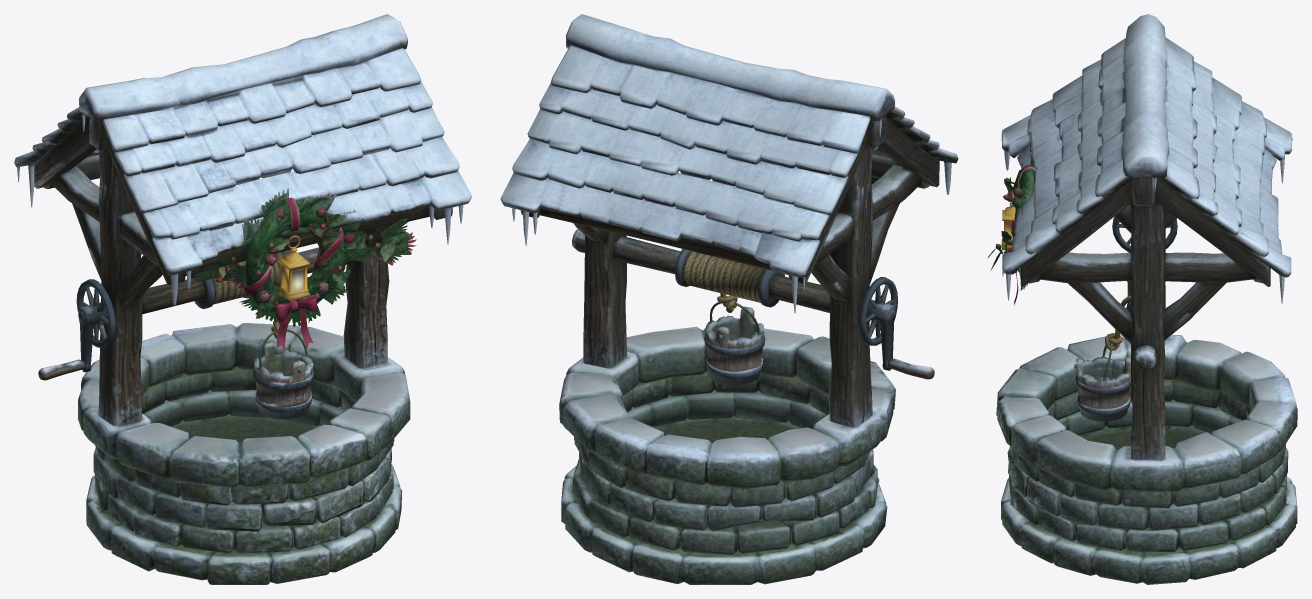
File: prop_mist_well.glb
The picture shows the model from 3 angles, left to right: view 1: azimuth 30°, elevation 25°; view 2: azimuth 150°, elevation 25°; view 3: azimuth 270°, elevation 25°; orthographic projection. The views are drawn at different scales.
Visible parts, largest first — view 1: tripo_node_6c2404b4-48ac-487d-8427-bc9363f70a7b; view 2: tripo_node_6c2404b4-48ac-487d-8427-bc9363f70a7b; view 3: tripo_node_6c2404b4-48ac-487d-8427-bc9363f70a7b.
Part boxes in pixels (bbox=[...]): tripo_node_6c2404b4-48ac-487d-8427-bc9363f70a7b: bbox=[14, 14, 471, 584]; tripo_node_6c2404b4-48ac-487d-8427-bc9363f70a7b: bbox=[500, 14, 958, 584]; tripo_node_6c2404b4-48ac-487d-8427-bc9363f70a7b: bbox=[987, 14, 1297, 584].
Size of the model in its own units: 1.87 by 2.35 by 1.51.
Materials: 1 (1 with a texture image).
